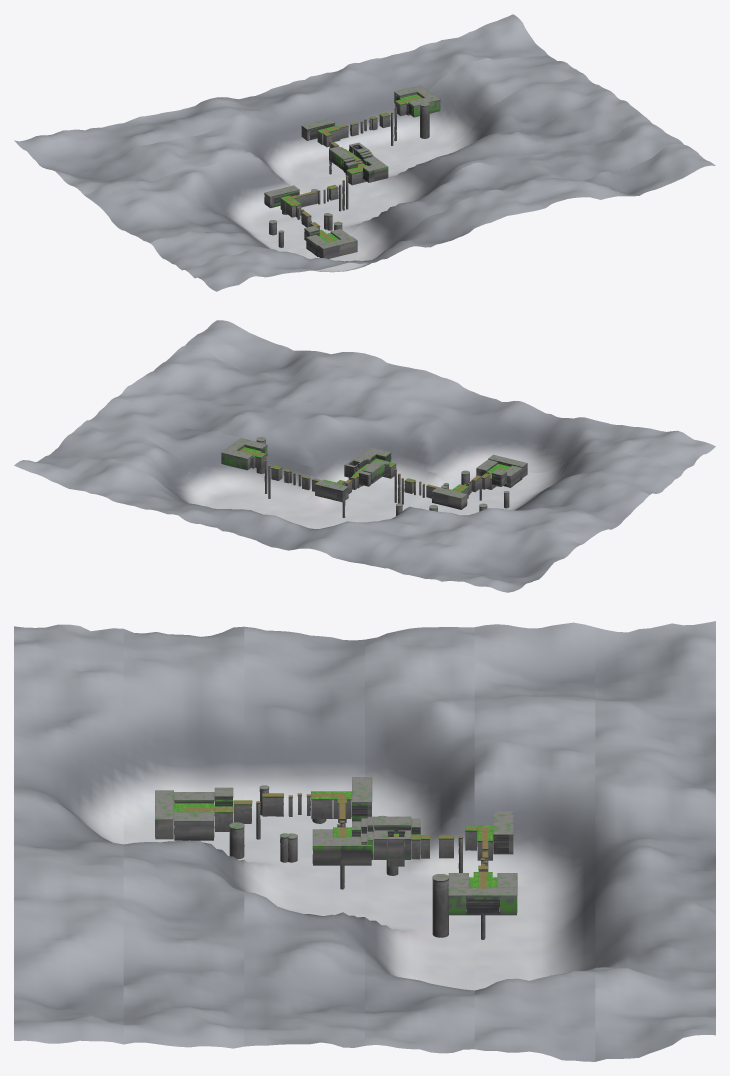
Rendered from windy_ridge_terrain.glb.
The picture shows the model from 3 angles, top to bottom: view 1: azimuth 30°, elevation 25°; view 2: azimuth 150°, elevation 25°; view 3: azimuth 270°, elevation 25°; orthographic projection. The views are drawn at different scales.
Visible parts, largest first — view 1: backdrop_5, backdrop_4, backdrop_3, backdrop_2, backdrop_1, backdrop_0, terrain_F, terrain_J, terrain_D, terrain_A, terrain_H, terrain_C (+2 smaller); view 2: backdrop_0, backdrop_1, backdrop_2, backdrop_5, backdrop_3, backdrop_4, terrain_F, terrain_J, terrain_D, terrain_A, terrain_H, terrain_B (+2 smaller); view 3: backdrop_5, backdrop_4, backdrop_1, backdrop_0, backdrop_2, backdrop_3, terrain_F, terrain_J, terrain_A, terrain_B, terrain_C, terrain_D (+2 smaller).
Boxes of the visible parts, x1=… form: backdrop_5: x1=14, y1=14, x2=547, y2=174; backdrop_4: x1=50, y1=55, x2=582, y2=194; backdrop_3: x1=84, y1=73, x2=614, y2=224; backdrop_2: x1=115, y1=94, x2=648, y2=251; backdrop_1: x1=150, y1=120, x2=683, y2=272; backdrop_0: x1=185, y1=144, x2=715, y2=291; terrain_F: x1=329, y1=142, x2=388, y2=182; terrain_J: x1=394, y1=85, x2=440, y2=138; terrain_D: x1=264, y1=185, x2=338, y2=230; terrain_A: x1=306, y1=229, x2=357, y2=258; terrain_H: x1=301, y1=118, x2=358, y2=144; terrain_C: x1=269, y1=199, x2=342, y2=247; backdrop_0: x1=185, y1=320, x2=715, y2=473; backdrop_1: x1=151, y1=344, x2=683, y2=503; backdrop_2: x1=116, y1=372, x2=649, y2=527; backdrop_5: x1=14, y1=455, x2=547, y2=592; backdrop_3: x1=84, y1=397, x2=613, y2=544; backdrop_4: x1=49, y1=423, x2=582, y2=574; terrain_F: x1=344, y1=447, x2=391, y2=488; terrain_J: x1=221, y1=437, x2=267, y2=473; terrain_D: x1=396, y1=478, x2=467, y2=515; terrain_A: x1=476, y1=454, x2=527, y2=487; terrain_H: x1=301, y1=476, x2=348, y2=502; terrain_B: x1=471, y1=469, x2=506, y2=500; backdrop_5: x1=595, y1=621, x2=715, y2=1061; backdrop_4: x1=474, y1=622, x2=595, y2=1061; backdrop_1: x1=123, y1=626, x2=244, y2=1048; backdrop_0: x1=14, y1=624, x2=123, y2=1044; backdrop_2: x1=244, y1=626, x2=364, y2=1047; backdrop_3: x1=365, y1=627, x2=474, y2=1053; terrain_F: x1=312, y1=816, x2=420, y2=866; terrain_J: x1=432, y1=872, x2=517, y2=937; terrain_A: x1=155, y1=790, x2=214, y2=840; terrain_B: x1=214, y1=787, x2=283, y2=839; terrain_C: x1=229, y1=785, x2=332, y2=862; terrain_D: x1=279, y1=777, x2=398, y2=875.
Size of the model in its own units: 637 by 101 by 448.
